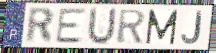E: (54, 7, 88, 45)
J: (180, 10, 204, 46)
M: (145, 8, 180, 46)
R: (24, 6, 55, 45), (116, 9, 147, 45)
U: (84, 6, 117, 47)
